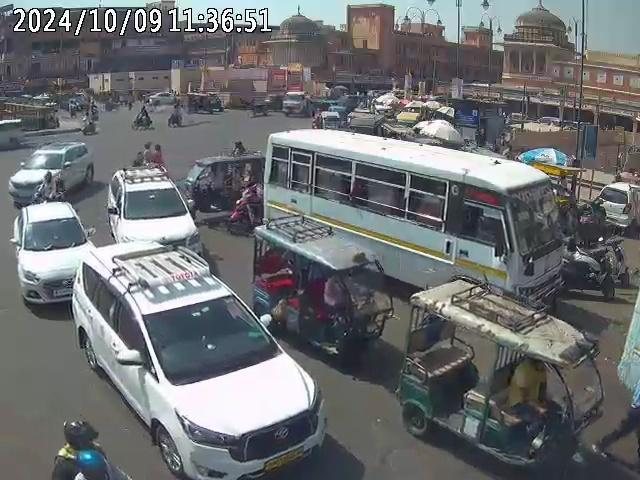auto: (392, 277, 605, 478), (250, 217, 394, 364), (183, 149, 264, 223), (597, 172, 639, 235), (281, 91, 308, 116)
bus: (260, 129, 561, 300), (614, 254, 639, 476)
car: (65, 236, 325, 479), (105, 167, 206, 259), (10, 200, 95, 308), (8, 140, 95, 206)
motorbike-rider: (133, 105, 153, 130)
scooty-rider: (557, 227, 627, 300), (226, 182, 263, 236), (133, 141, 167, 175)
